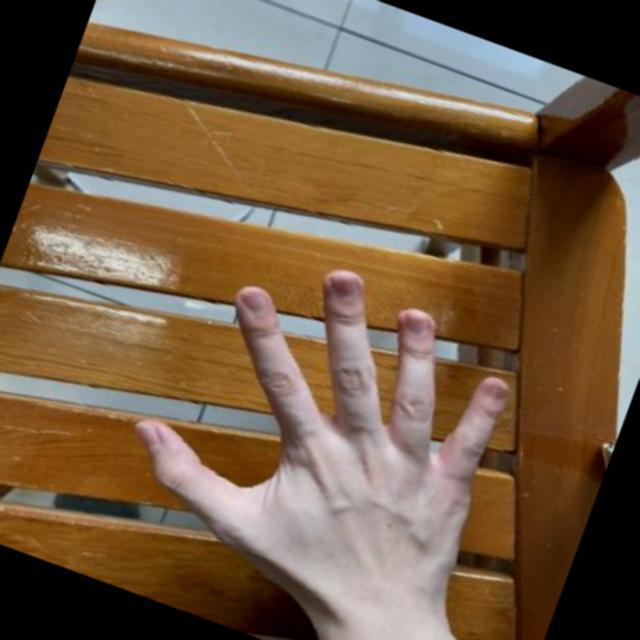hand: (86, 204, 563, 640)
